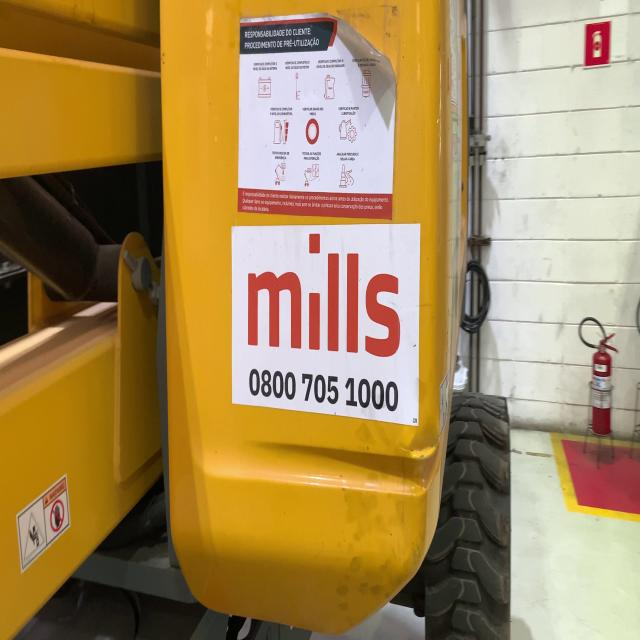Adesivos: (230, 220, 422, 428)
